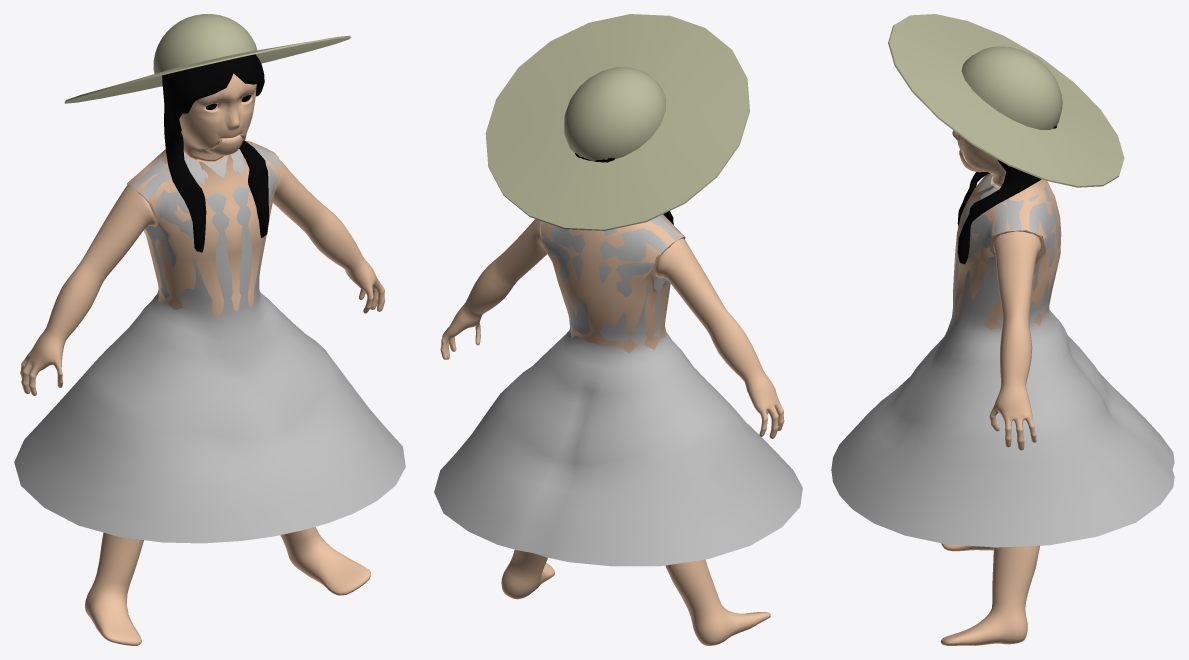
Rendered from almaModelo.fbx.
3 views of the same model, side by side, from view 1: azimuth 30°, elevation 25°; view 2: azimuth 150°, elevation 25°; view 3: azimuth 270°, elevation 25° (orthographic). The views are drawn at different scales.
Visible parts, largest first — view 1: alma_doll14, alma_doll10, polySurface10, pelotf2, sombrero4, polySurface7, polySurface8, alma_doll11, polySurface9; view 2: alma_doll14, sombrero4, alma_doll10, polySurface10, polySurface7, polySurface8, polySurface9; view 3: alma_doll14, sombrero4, polySurface7, alma_doll10, polySurface9, pelotf2, alma_doll11.
Part boxes in pixels (x1=…): alma_doll14: x1=14, y1=142, x2=405, y2=543; alma_doll10: x1=128, y1=140, x2=280, y2=319; polySurface10: x1=20, y1=184, x2=155, y2=395; pelotf2: x1=162, y1=54, x2=268, y2=252; sombrero4: x1=64, y1=14, x2=350, y2=103; polySurface7: x1=272, y1=159, x2=385, y2=313; polySurface8: x1=85, y1=532, x2=143, y2=645; alma_doll11: x1=179, y1=73, x2=256, y2=161; polySurface9: x1=280, y1=527, x2=370, y2=595; alma_doll14: x1=434, y1=215, x2=802, y2=566; sombrero4: x1=485, y1=14, x2=749, y2=230; alma_doll10: x1=541, y1=214, x2=685, y2=353; polySurface10: x1=655, y1=238, x2=784, y2=438; polySurface7: x1=440, y1=219, x2=546, y2=359; polySurface8: x1=665, y1=559, x2=770, y2=645; polySurface9: x1=501, y1=549, x2=554, y2=599; alma_doll14: x1=831, y1=174, x2=1174, y2=547; sombrero4: x1=888, y1=14, x2=1124, y2=187; polySurface7: x1=989, y1=231, x2=1041, y2=450; alma_doll10: x1=953, y1=173, x2=1061, y2=329; polySurface9: x1=940, y1=545, x2=1039, y2=645; pelotf2: x1=957, y1=125, x2=1057, y2=264; alma_doll11: x1=952, y1=130, x2=1006, y2=186.
Size of the model in its own units: 7.98 by 12.67 by 7.08.
